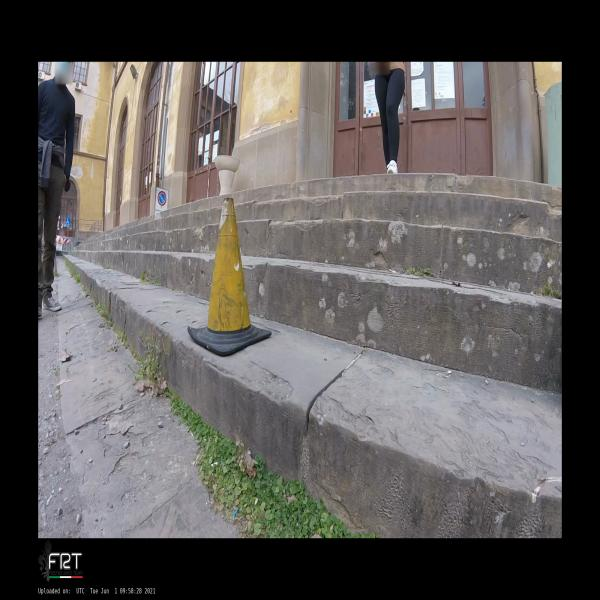unknown_cone: (188, 198, 272, 357)
